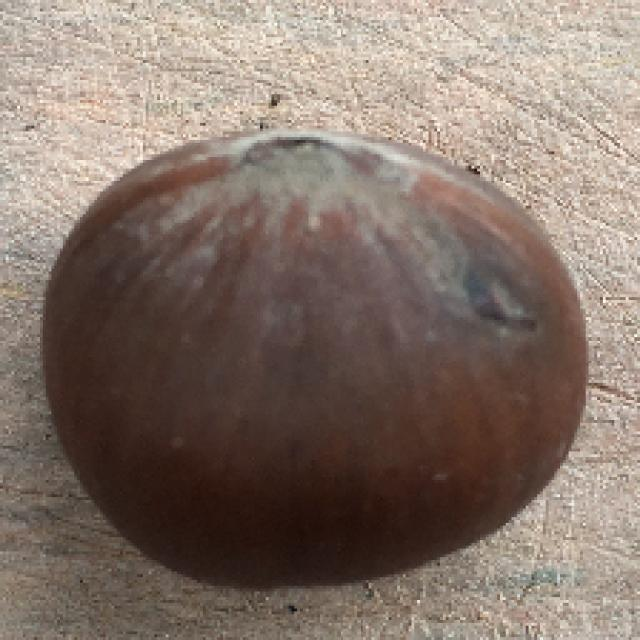qualityHazelnut: (34, 118, 593, 594)
